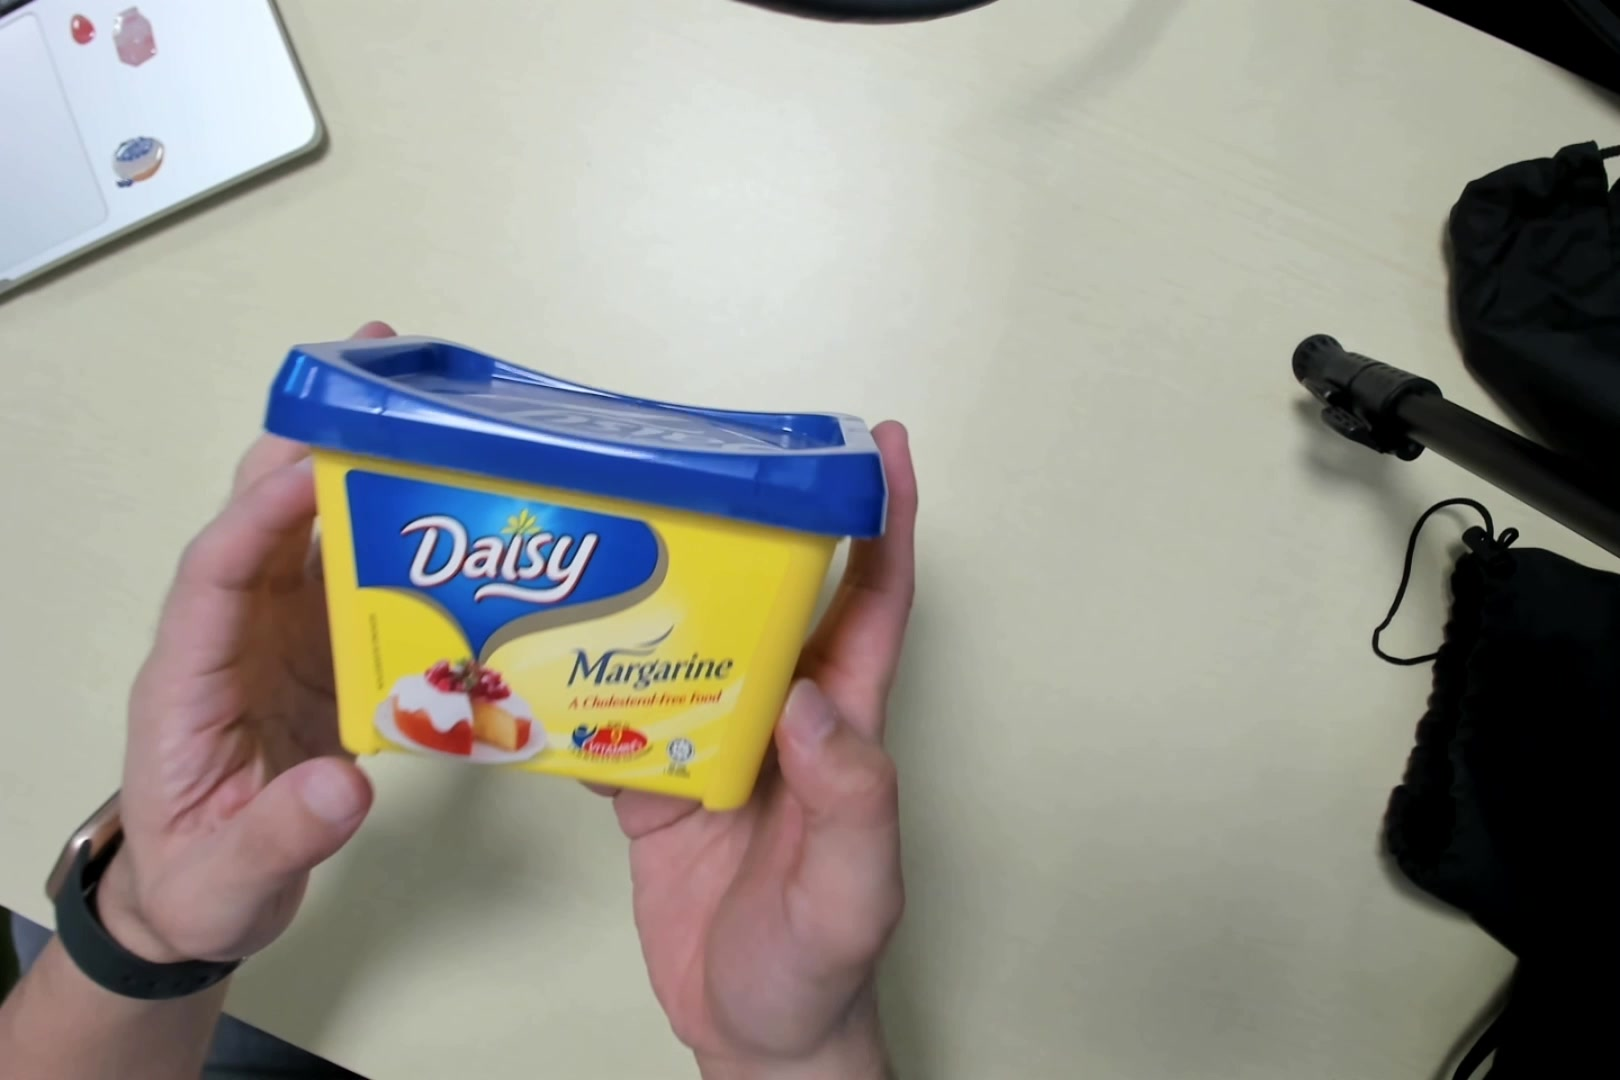OtherSpreads_400-499g_Halal_NonHealthy: (268, 329, 890, 827)
